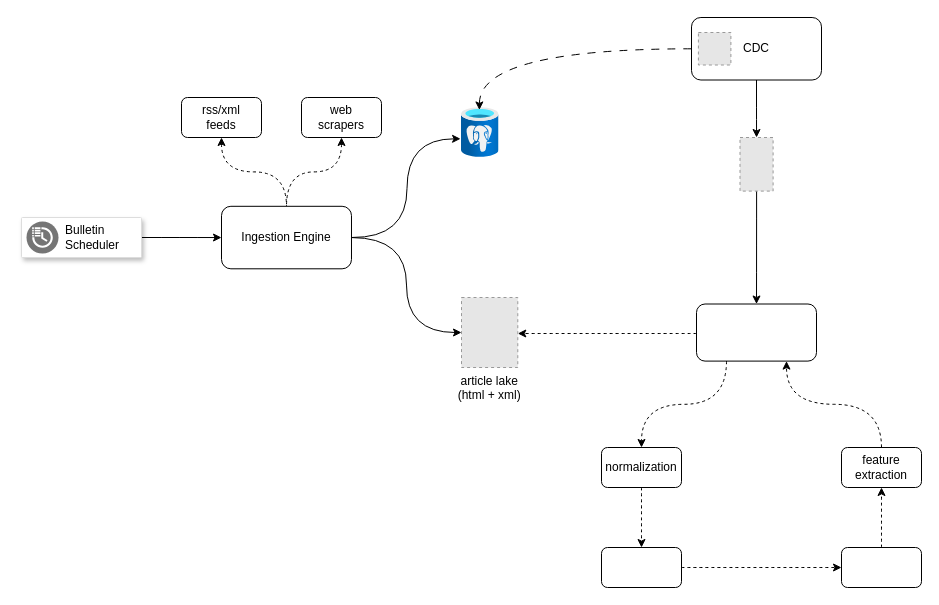
Image size: 939x605. Some labels were removed from this diagram. Grey dashed boxes stand in for pictures. The shapes that lost their labels are listed below. From the top down, each one's centre as x and y in pixels, then its label:
At [479,132]: "article metadata (source, time, endpoint, etc)".
At [756,332]: "Post Ingestion Processor".
At [641,567]: "dedup".
At [881,567]: "clustering".
